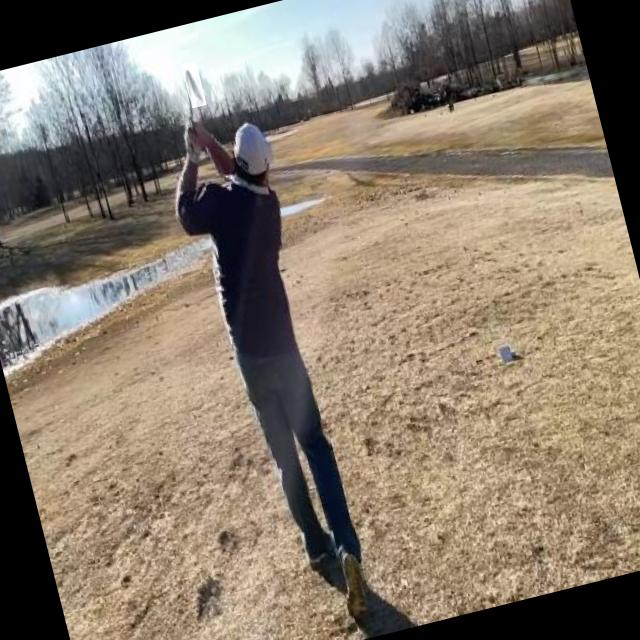club head: (182, 61, 206, 108)
